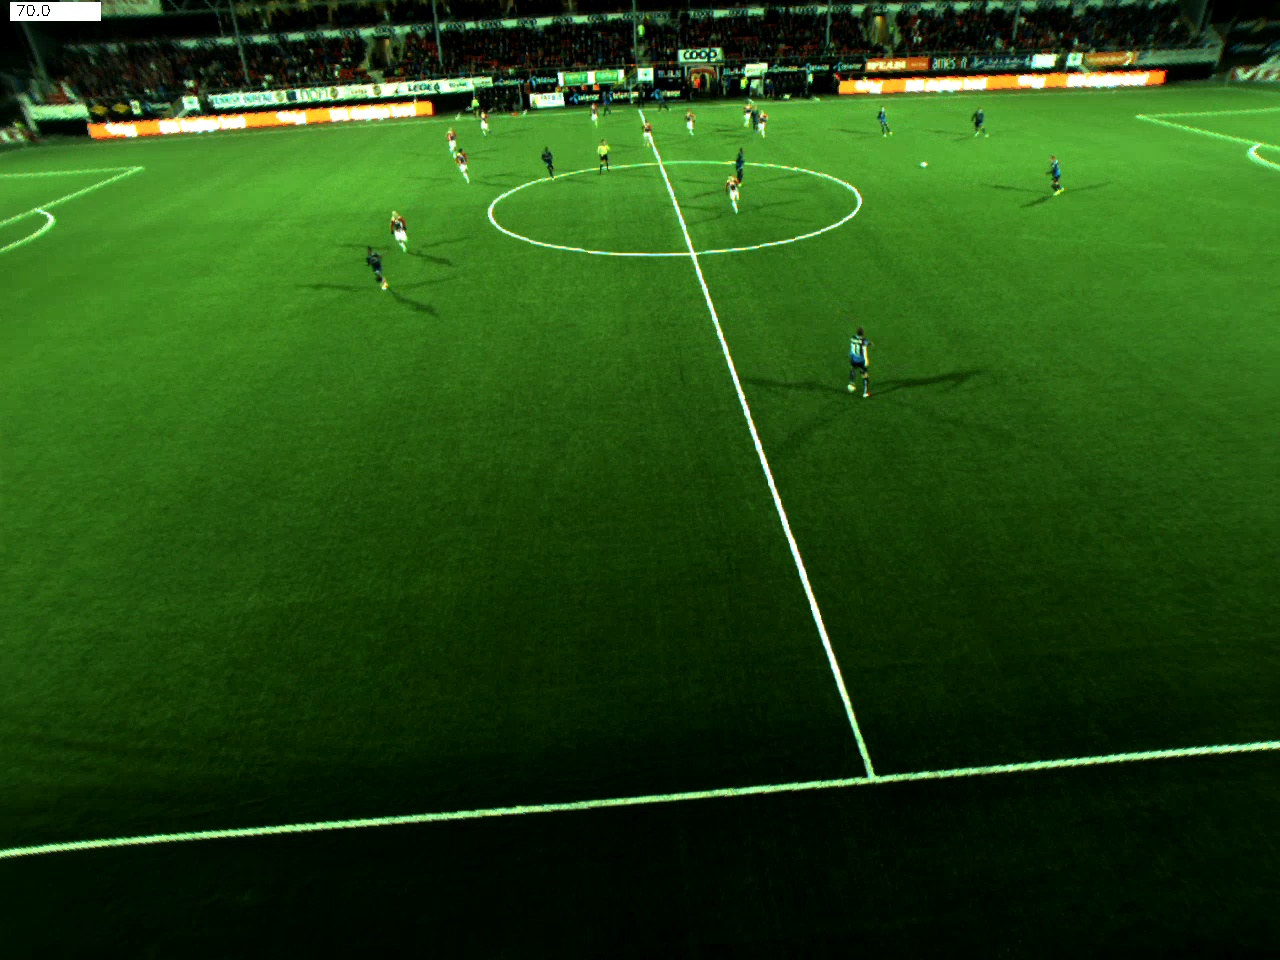blue: (844, 324, 880, 399), (360, 242, 392, 298), (1045, 149, 1066, 196), (535, 144, 560, 181), (971, 103, 991, 139), (731, 144, 748, 184), (876, 103, 892, 139), (598, 92, 617, 119), (750, 103, 757, 137)
red: (387, 206, 416, 255), (717, 170, 745, 214), (453, 148, 477, 185), (638, 114, 658, 153), (681, 106, 701, 139), (442, 128, 463, 156), (478, 109, 495, 138), (758, 109, 774, 138), (586, 101, 601, 129), (742, 99, 752, 131)
yellow: (595, 135, 614, 176)
